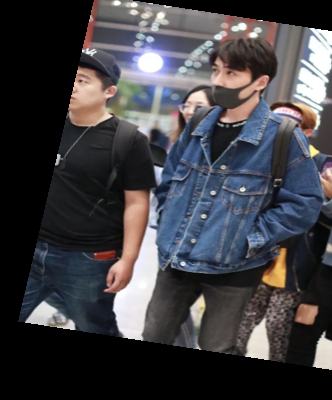mask_weared_incorrect: (203, 31, 277, 114)
